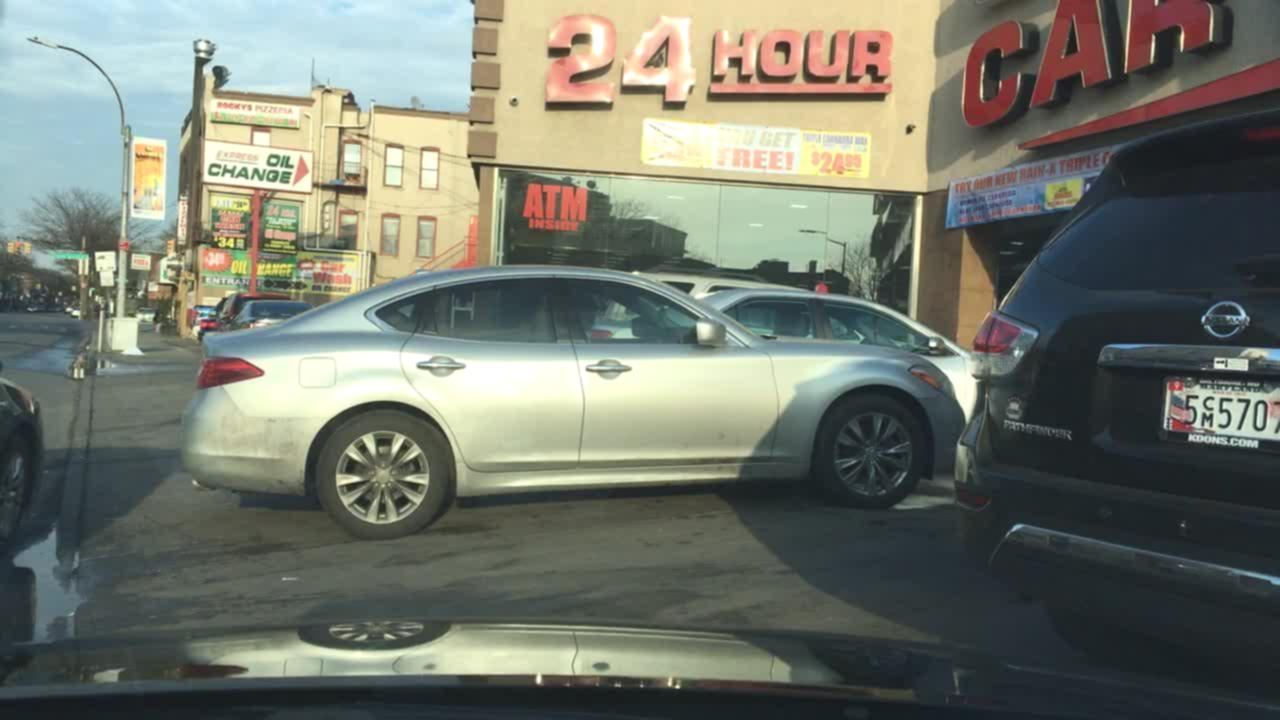Nissan: (1201, 287, 1266, 355)
